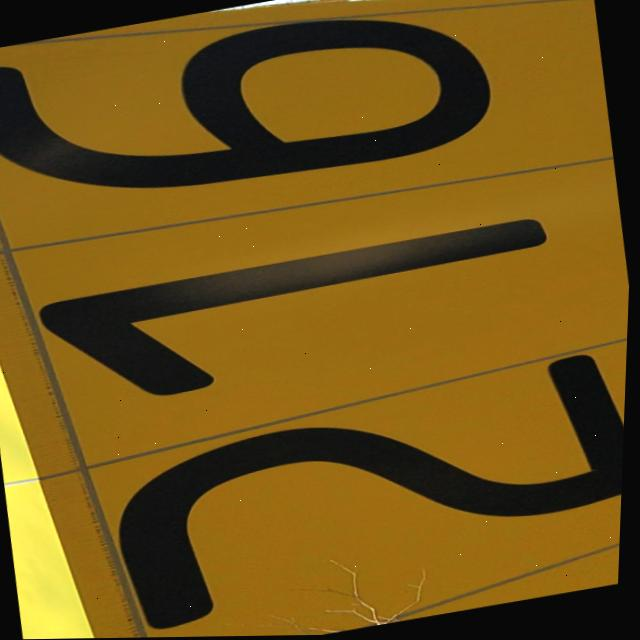character: (74, 338, 627, 639), (0, 0, 509, 234), (15, 208, 574, 419)
